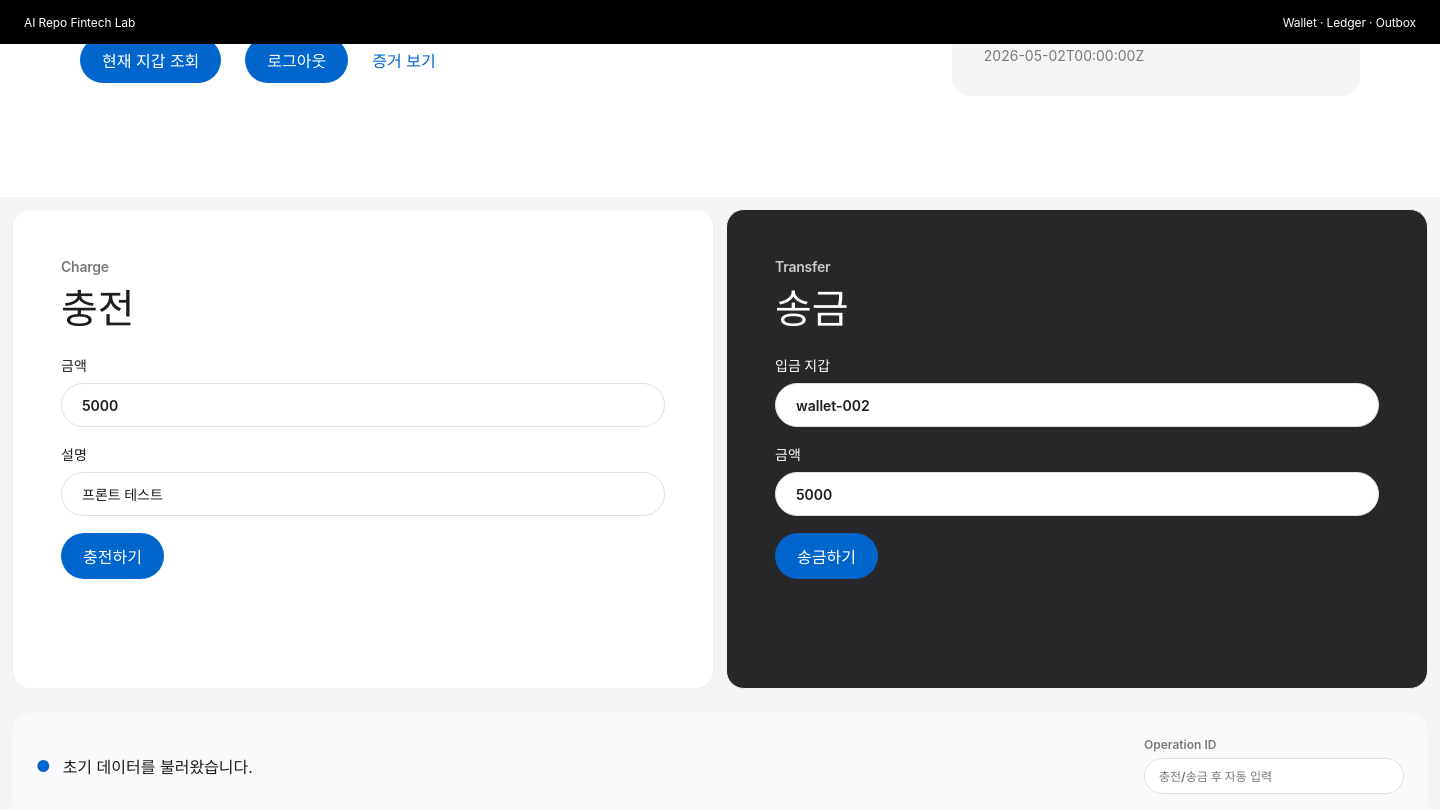
Scenario: App › 잔액 부족 송금 오류를 표시한다
(page scrolled)
Replace the text in the field named "송금 입금 지갑 ID" with "wallet-001" at (1077, 405), box [775, 383, 1379, 427]
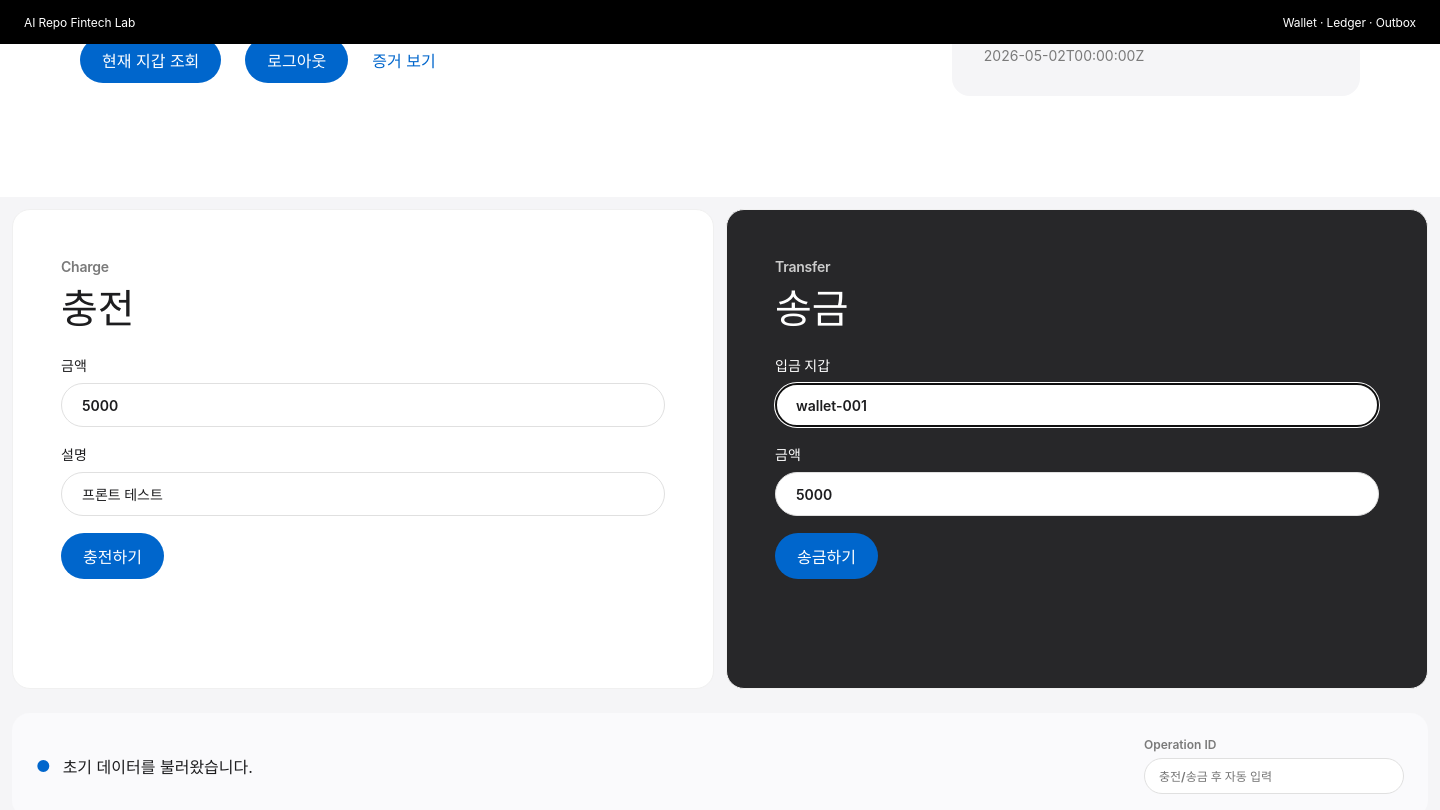
Replace the text in the number field named "송금 금액" with "999999" at (1077, 494), box [775, 472, 1379, 516]
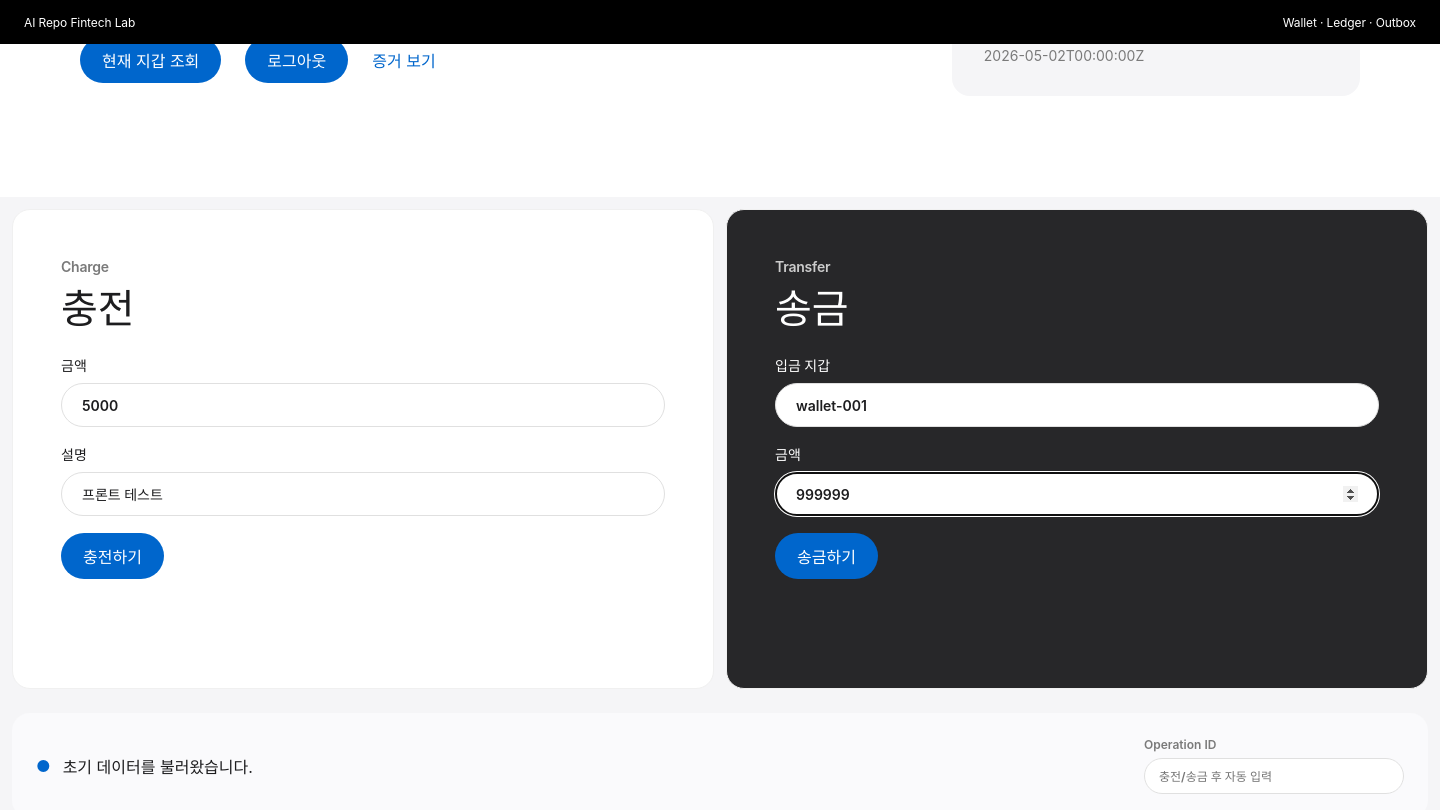
Click the button "송금하기" at (826, 556), box [775, 533, 878, 579]
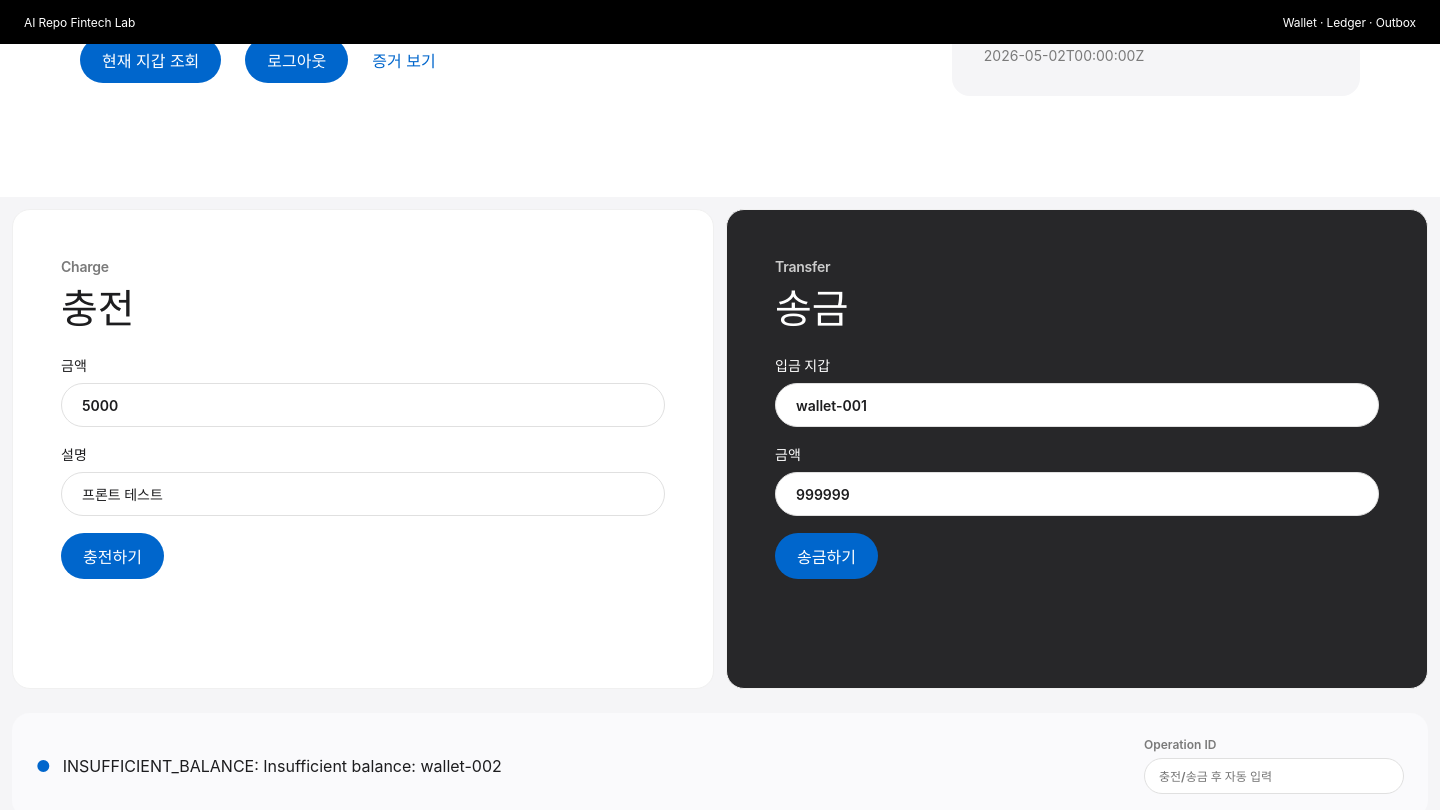
Expected: the text "INSUFFICIENT_BALANCE: Insufficient balance: wallet-002" is shown, [63, 756, 502, 776]
